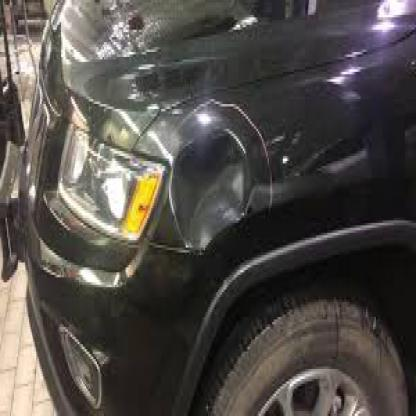dent: (171, 122, 248, 246)
